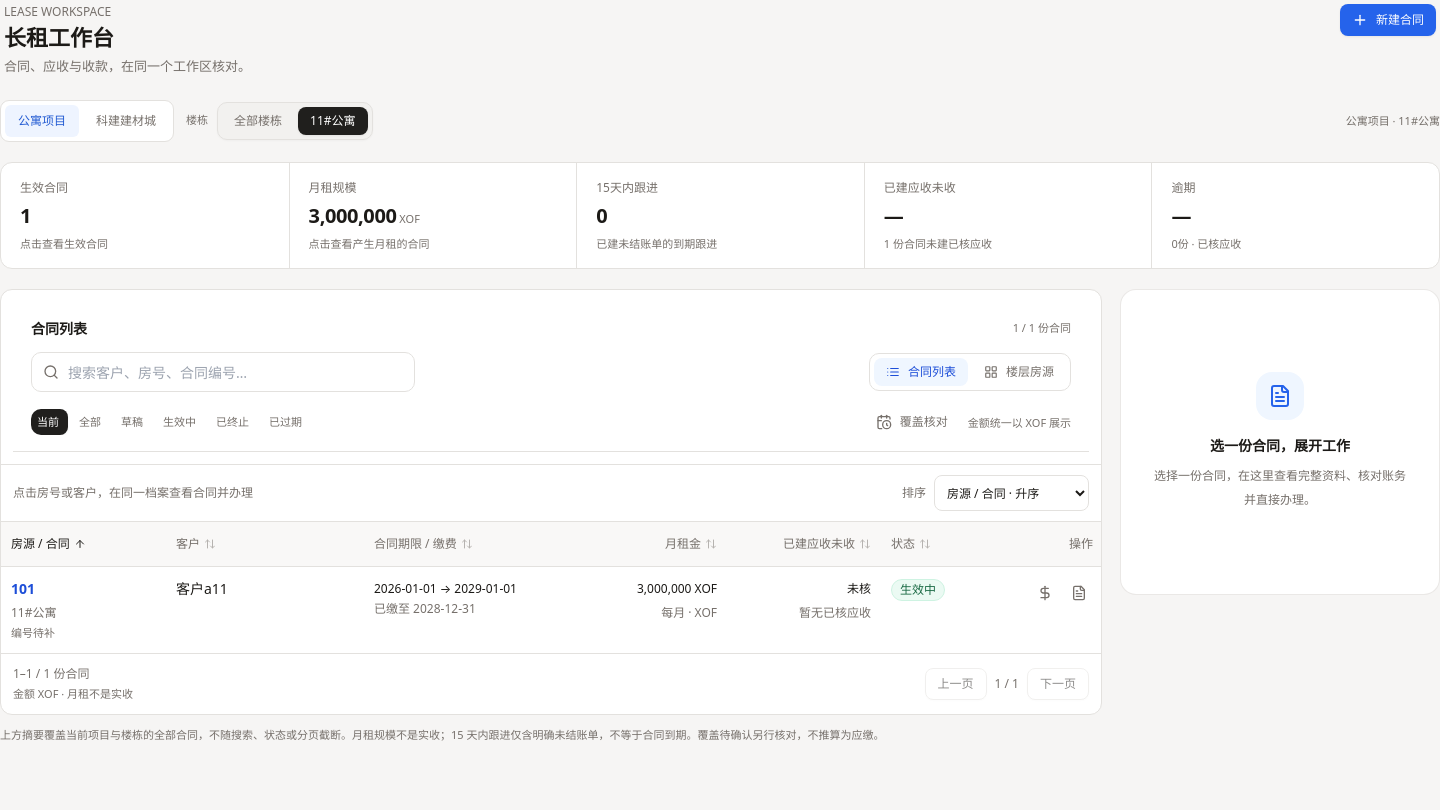
it: limits new-contract options to selected project and building, with building labels
The image size is (1440, 810).
What coordinates should you click on to do the following:
click the button "科建建材城"
I would click on:
 (126, 120)
Its box is [83,104,169,136].
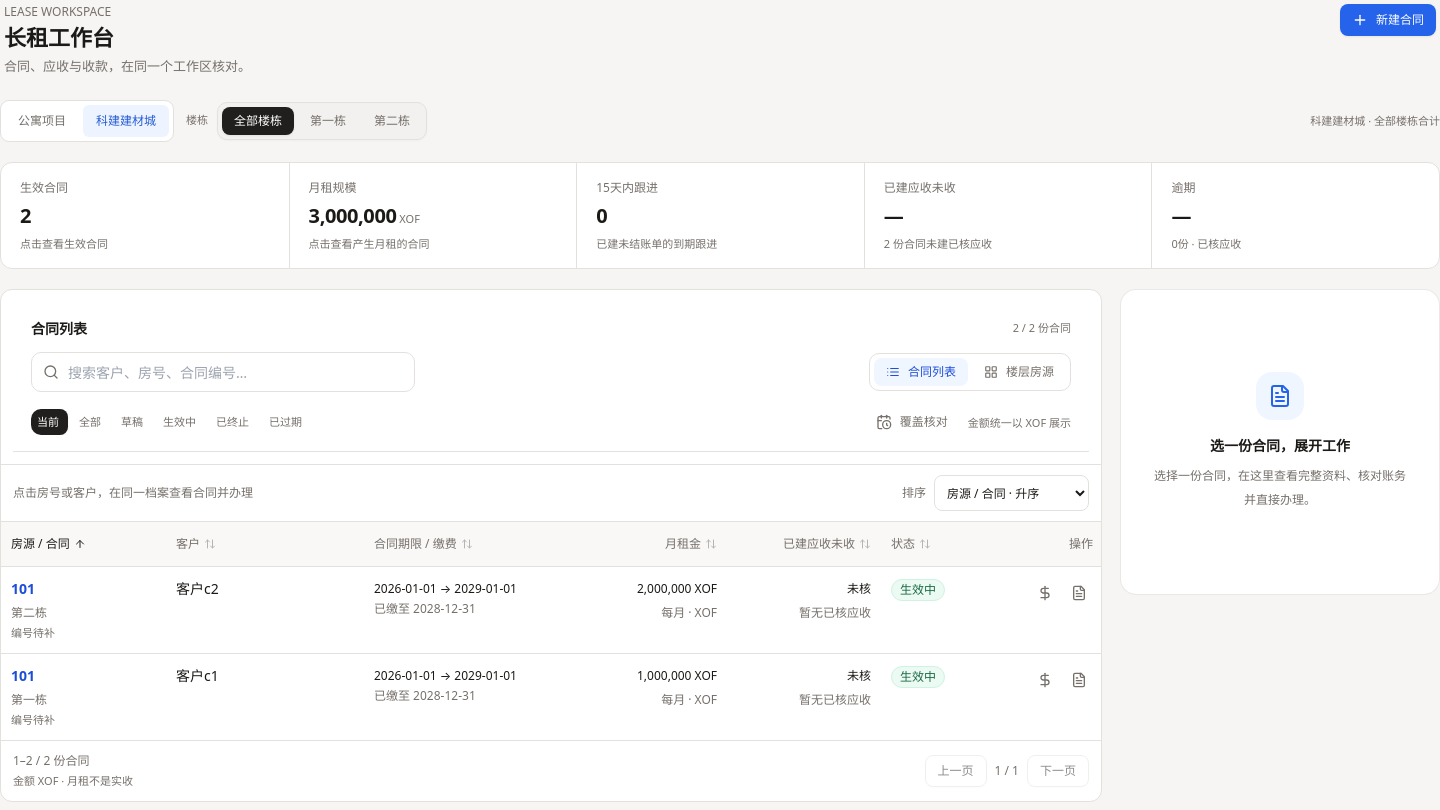
What coordinates should you click on to do the following:
click the button "第二栋"
I would click on:
 (392, 120)
Its box is [362,106,422,134].
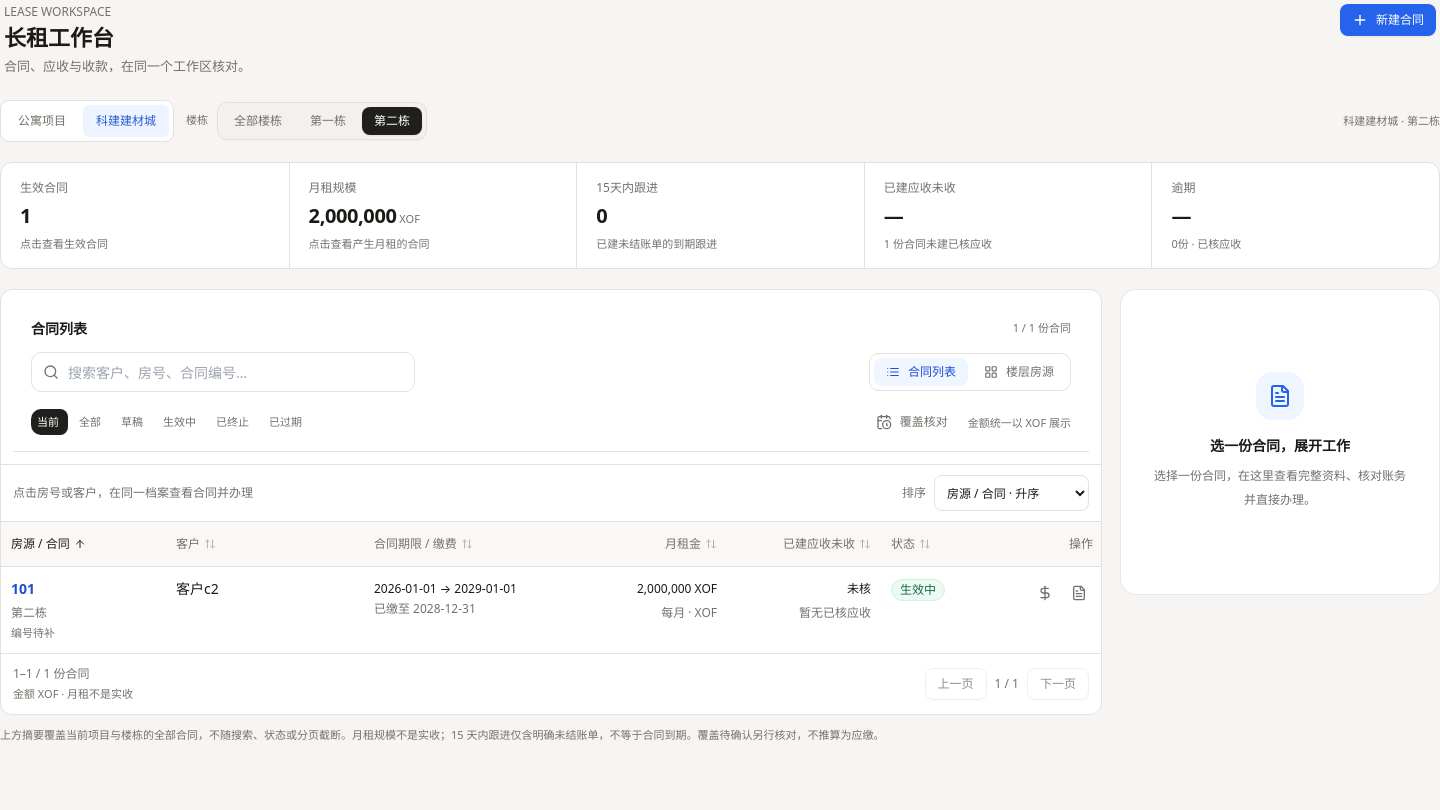
What coordinates should you click on to do the following:
click the button "新建合同"
I would click on:
 (1388, 20)
Its box is [1340,4,1436,36].
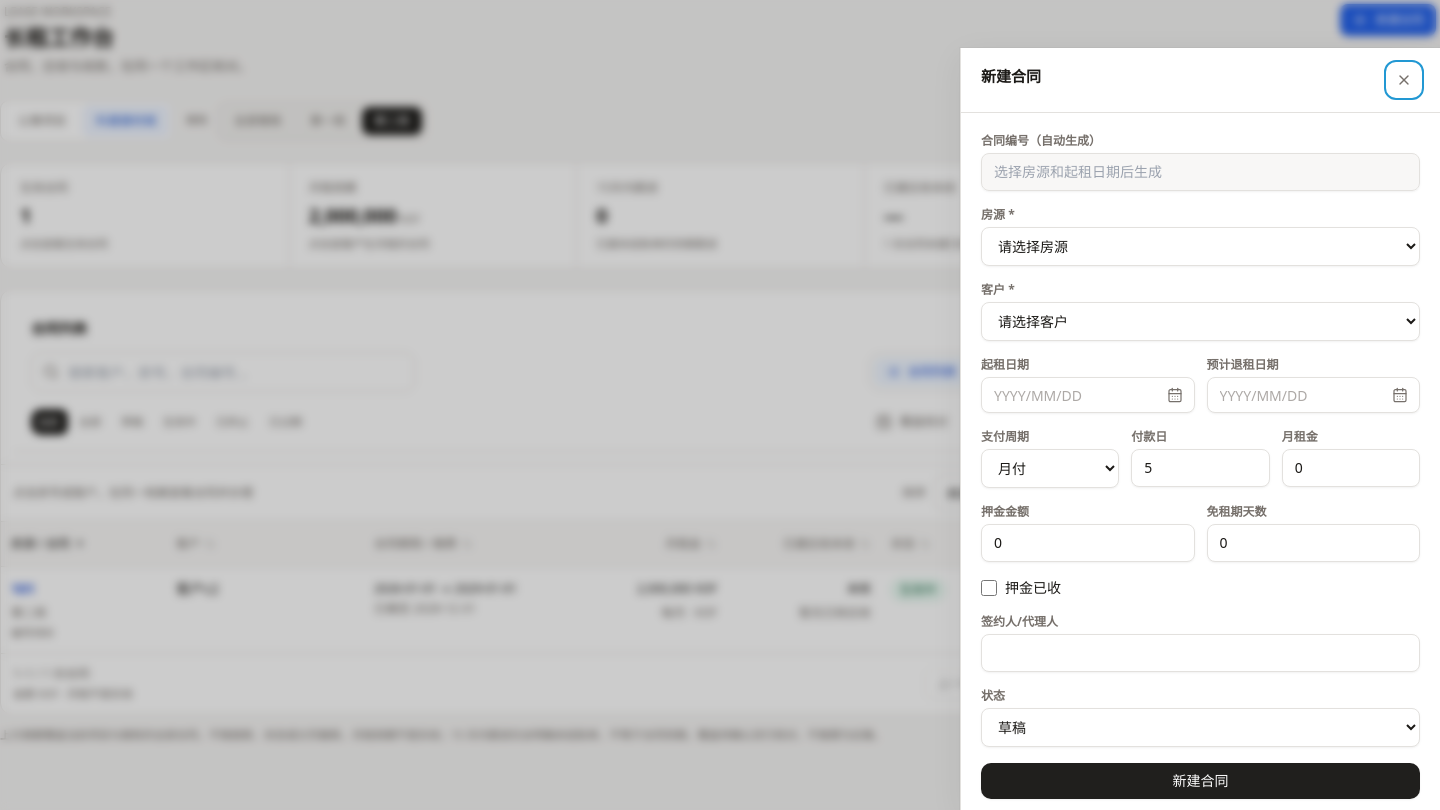
Now the dialog is shown, box [960,48,1439,809]
